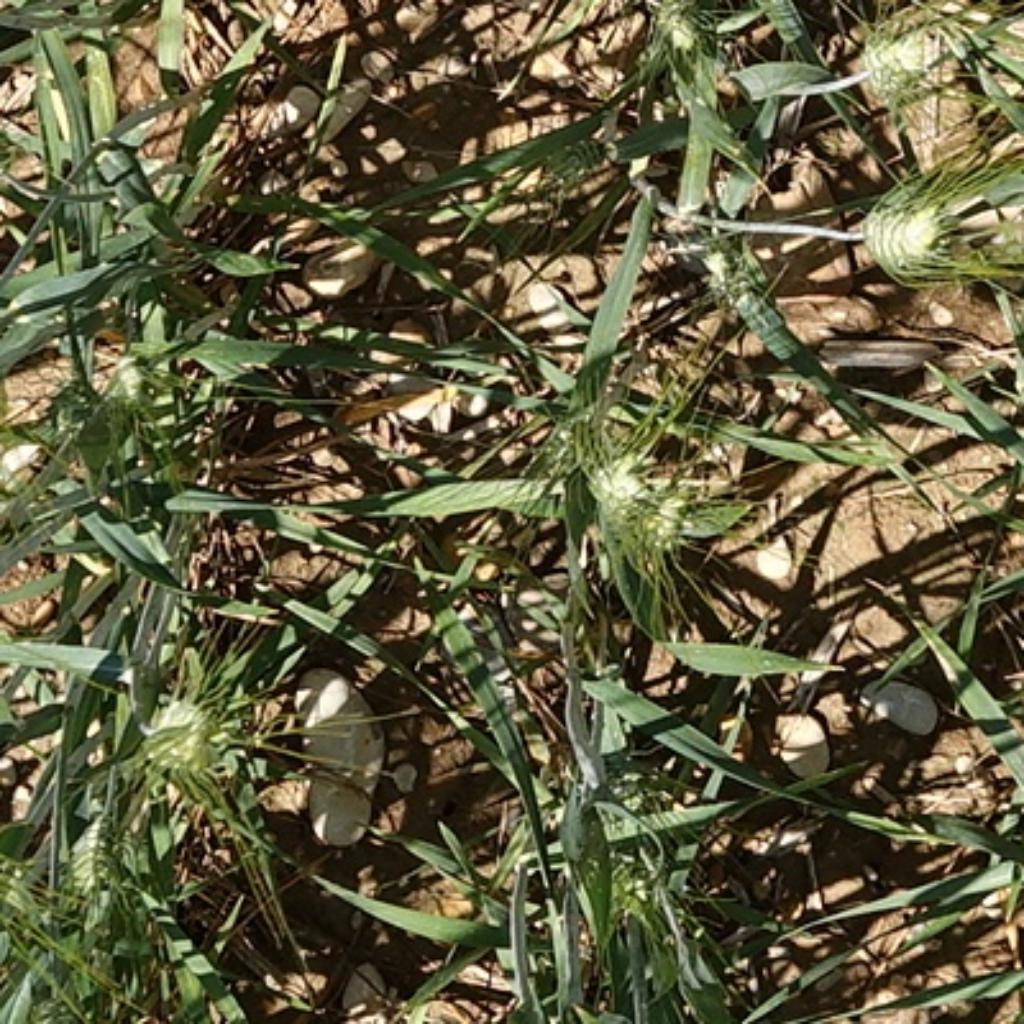0-0: (120, 670, 240, 785), (89, 330, 202, 437), (56, 798, 163, 911), (852, 0, 967, 104), (573, 759, 679, 852), (576, 442, 670, 542), (849, 195, 953, 281), (629, 491, 734, 576), (522, 125, 616, 207), (640, 0, 719, 69)
